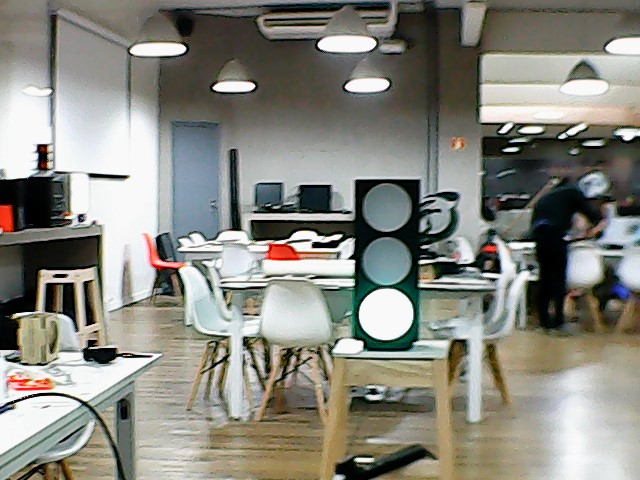verde: (348, 175, 426, 345)
